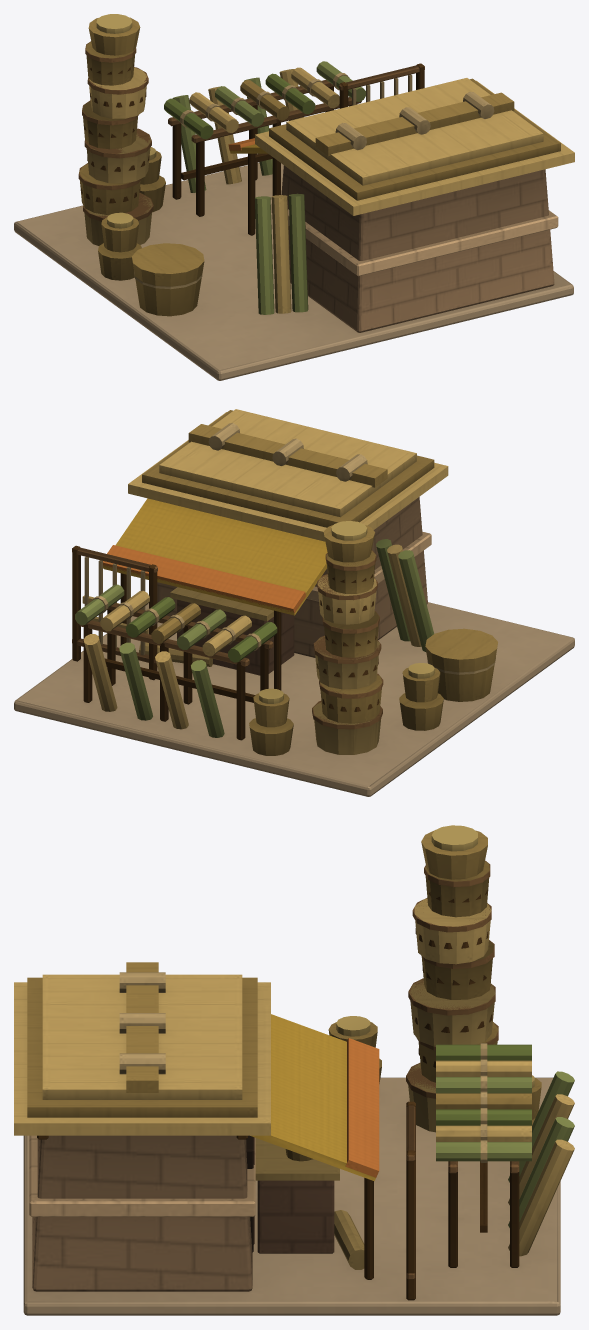
Rendered from reed_basket_shop.glb.
3 renders of one model, top to bottom at view 1: azimuth 30°, elevation 25°; view 2: azimuth 150°, elevation 25°; view 3: azimuth 270°, elevation 25°, orthographic. The views are drawn at different scales.
Parts seen in each view (by area): view 1: rush_basket_shop_dirt_apron, rush_basket_shop_thatch_mat, rush_basket_shop_mud_terra, rush_basket_shop_thatch_dark, rush_basket_shop_crop_green, rush_basket_shop_wood_mid, rush_basket_shop_wood_dark, rush_basket_shop_mud_tan, rush_basket_shop_rope_tan, rush_basket_shop_crop_deep, rush_basket_shop_crop_amber; view 2: rush_basket_shop_dirt_apron, rush_basket_shop_thatch_mat, rush_basket_shop_thatch_dark, rush_basket_shop_cloth_yellow, rush_basket_shop_crop_green, rush_basket_shop_wood_dark, rush_basket_shop_wood_mid, rush_basket_shop_mud_terra, rush_basket_shop_cloth_orange, rush_basket_shop_rope_tan, rush_basket_shop_mud_dark, rush_basket_shop_crop_deep (+2 smaller); view 3: rush_basket_shop_thatch_mat, rush_basket_shop_dirt_apron, rush_basket_shop_mud_terra, rush_basket_shop_thatch_dark, rush_basket_shop_cloth_yellow, rush_basket_shop_wood_dark, rush_basket_shop_mud_dark, rush_basket_shop_crop_green, rush_basket_shop_mud_tan, rush_basket_shop_cloth_orange, rush_basket_shop_wood_mid, rush_basket_shop_rope_tan (+2 smaller).
Part boxes in pixels (bbox=[...]): rush_basket_shop_dirt_apron: bbox=[14, 162, 573, 380]; rush_basket_shop_thatch_mat: bbox=[84, 67, 574, 313]; rush_basket_shop_mud_terra: bbox=[281, 165, 554, 332]; rush_basket_shop_thatch_dark: bbox=[79, 17, 560, 316]; rush_basket_shop_crop_green: bbox=[172, 61, 365, 314]; rush_basket_shop_wood_mid: bbox=[78, 41, 424, 221]; rush_basket_shop_wood_dark: bbox=[81, 63, 424, 235]; rush_basket_shop_mud_tan: bbox=[271, 204, 558, 276]; rush_basket_shop_rope_tan: bbox=[134, 72, 494, 289]; rush_basket_shop_crop_deep: bbox=[164, 73, 315, 139]; rush_basket_shop_crop_amber: bbox=[96, 14, 156, 228]; rush_basket_shop_dirt_apron: bbox=[14, 602, 574, 796]; rush_basket_shop_thatch_mat: bbox=[82, 409, 448, 754]; rush_basket_shop_thatch_dark: bbox=[142, 410, 497, 755]; rush_basket_shop_cloth_yellow: bbox=[103, 498, 327, 615]; rush_basket_shop_crop_green: bbox=[75, 539, 434, 737]; rush_basket_shop_wood_dark: bbox=[72, 545, 379, 740]; rush_basket_shop_wood_mid: bbox=[72, 547, 383, 729]; rush_basket_shop_mud_terra: bbox=[157, 497, 427, 657]; rush_basket_shop_cloth_orange: bbox=[103, 545, 305, 613]; rush_basket_shop_rope_tan: bbox=[84, 423, 495, 674]; rush_basket_shop_mud_dark: bbox=[177, 599, 294, 675]; rush_basket_shop_crop_deep: bbox=[126, 597, 277, 662]; rush_basket_shop_thatch_mat: bbox=[14, 898, 574, 1269]; rush_basket_shop_dirt_apron: bbox=[23, 1077, 560, 1315]; rush_basket_shop_mud_terra: bbox=[32, 1135, 252, 1291]; rush_basket_shop_thatch_dark: bbox=[27, 830, 541, 1161]; rush_basket_shop_cloth_yellow: bbox=[250, 1014, 375, 1181]; rush_basket_shop_wood_dark: bbox=[37, 889, 519, 1300]; rush_basket_shop_mud_dark: bbox=[257, 1180, 334, 1253]; rush_basket_shop_crop_green: bbox=[436, 1071, 574, 1227]; rush_basket_shop_mud_tan: bbox=[29, 1135, 255, 1216]; rush_basket_shop_cloth_orange: bbox=[345, 1038, 379, 1177]; rush_basket_shop_wood_mid: bbox=[406, 860, 519, 1279]; rush_basket_shop_rope_tan: bbox=[119, 972, 487, 1162].
Size of the model in its own units: 2.8 by 1.69 by 2.92.
17 materials, 14 textured.
